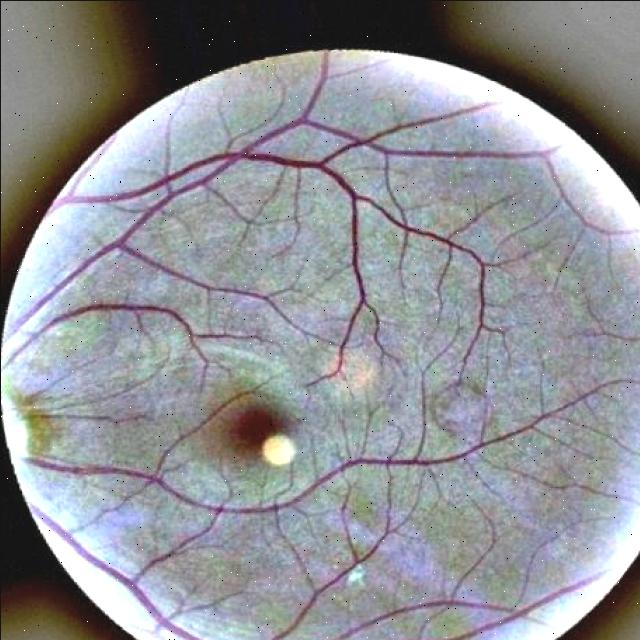Macula: (206, 390, 310, 469)
Nerves: (8, 110, 496, 380), (30, 383, 625, 522), (38, 498, 526, 640), (8, 294, 234, 370)
Optic Disk: (1, 334, 48, 505)
